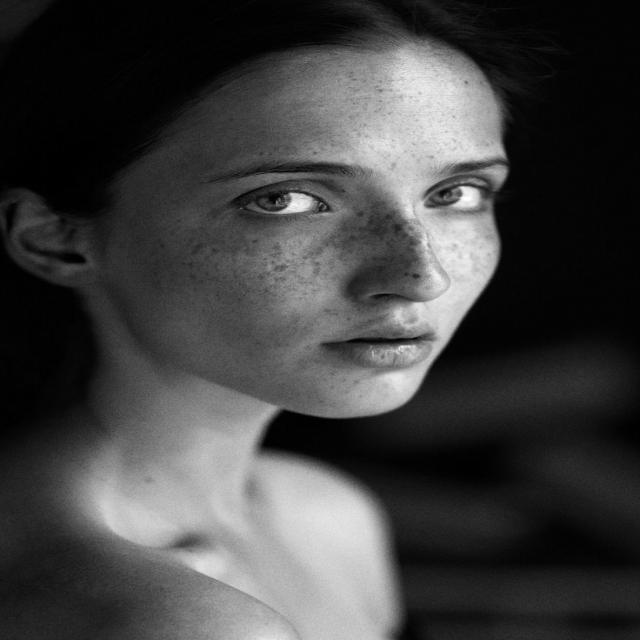earlobe: (0, 186, 101, 291)
